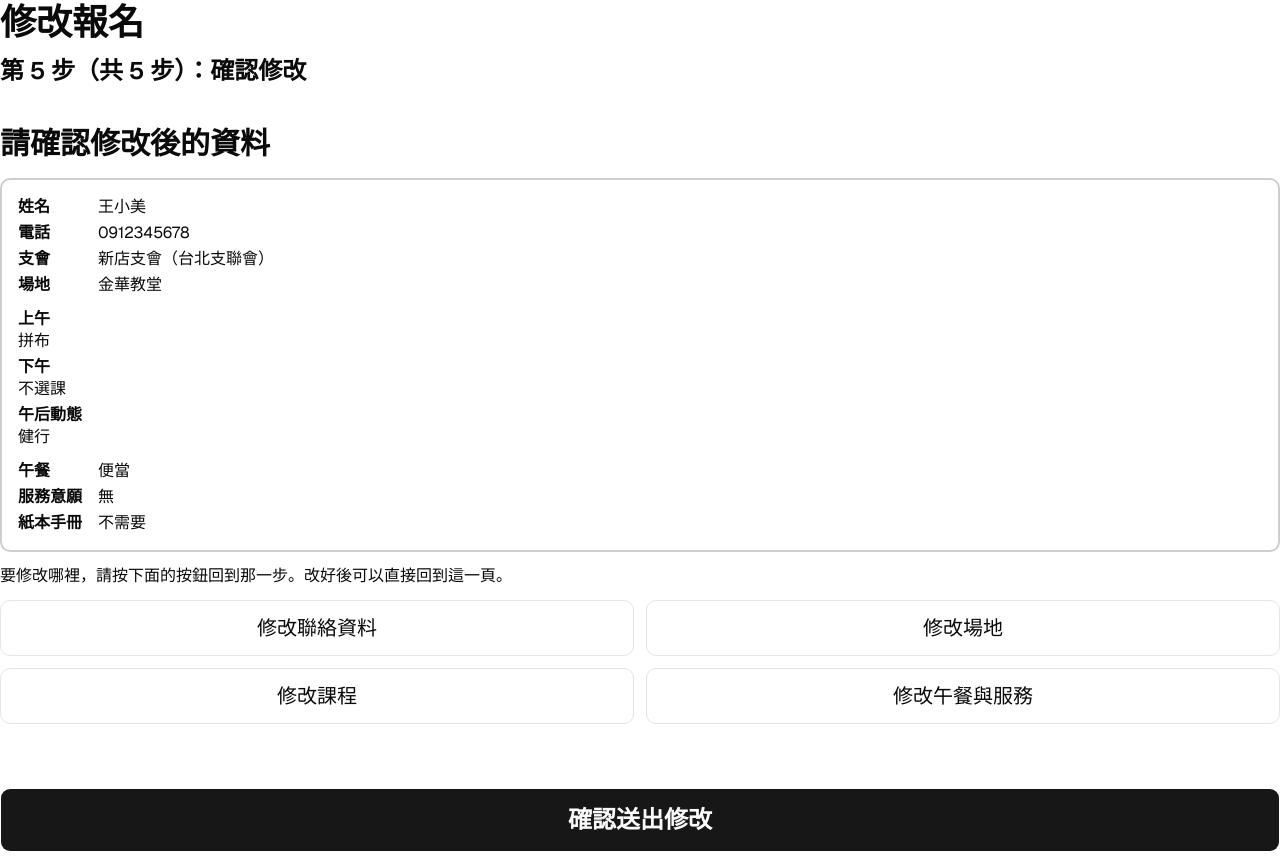
課程的講師 › 有講師的課程在選項上顯示講師，沒有的不顯示
Click the button "修改課程": click(317, 696) 0,668 -> 634,724
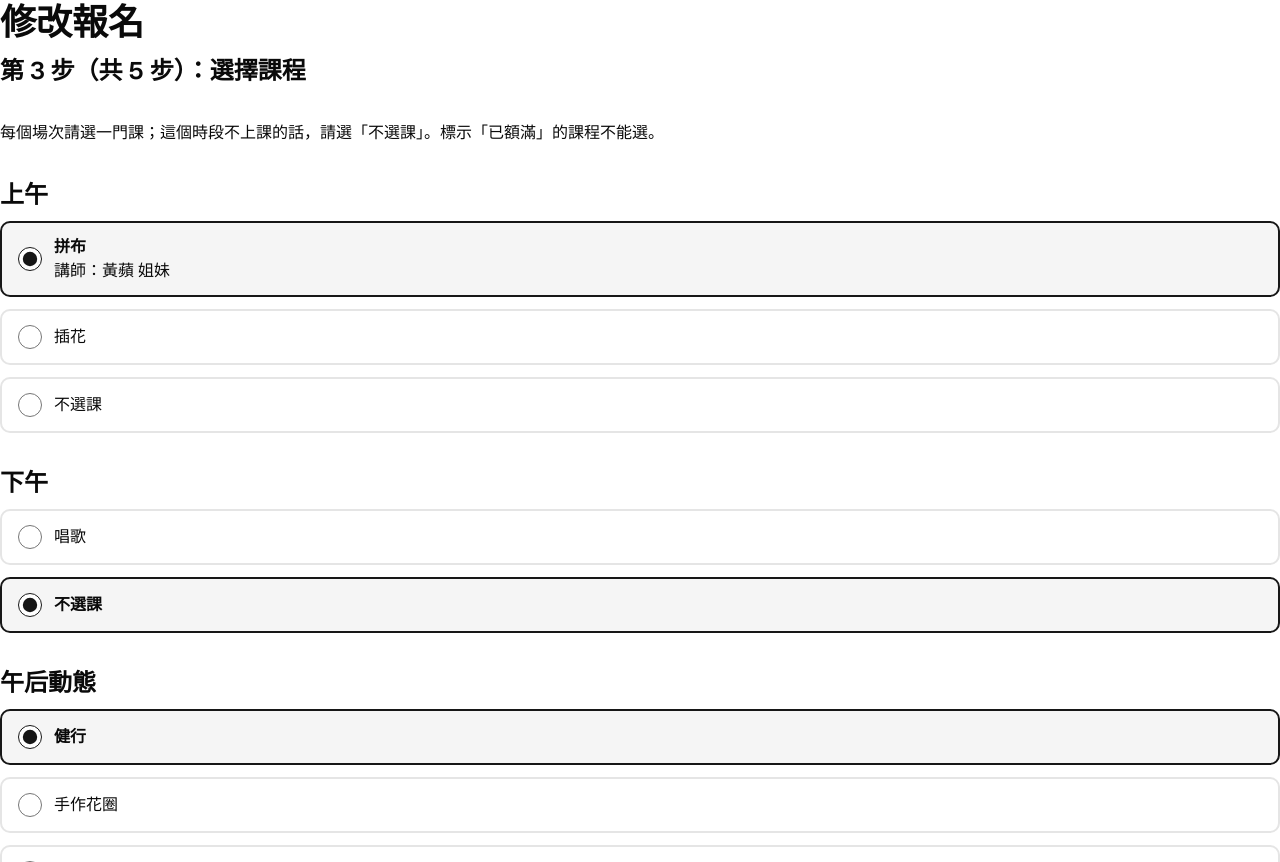
Check: the radio button labelled "插花" does not show "講師"
Check: the label "拼布 講師：黃蘋 姐妹" is shown, box 0,221 -> 1279,297
